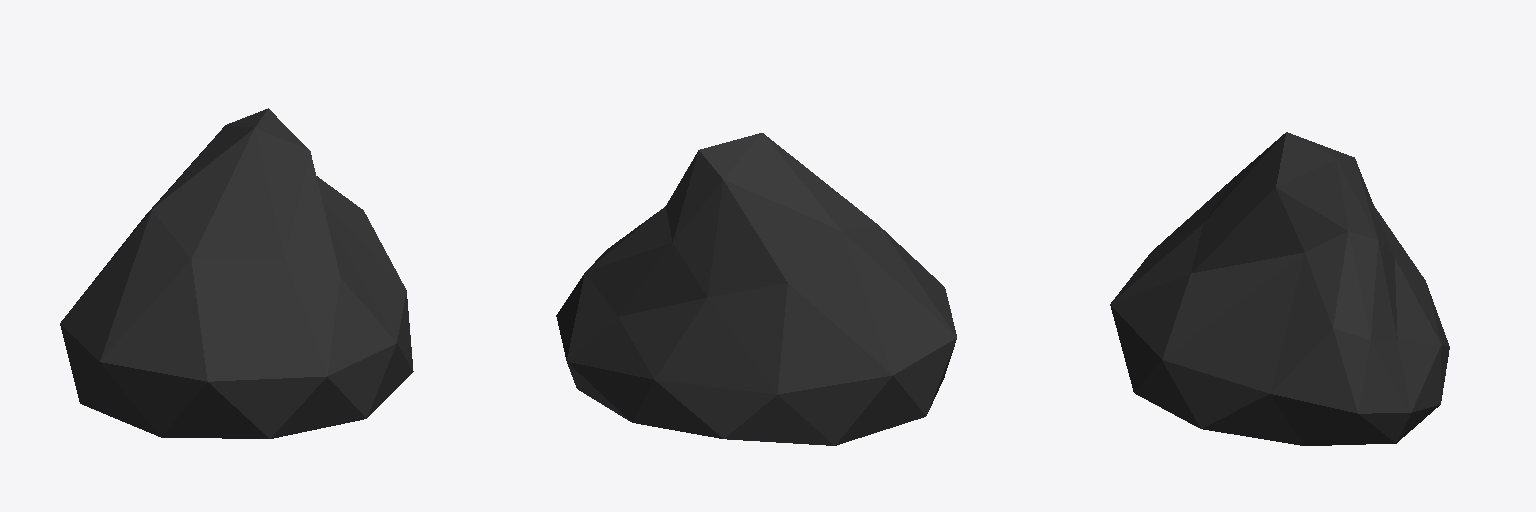
The model's file is Roca.obj.
The picture shows the model from 3 angles: view 1: azimuth 30°, elevation 25°; view 2: azimuth 150°, elevation 25°; view 3: azimuth 270°, elevation 25°; orthographic projection.
Parts seen in each view (by area): view 1: Icosphere.001; view 2: Icosphere.001; view 3: Icosphere.001.
Boxes of the visible parts, box(x1,y1,x2,y2) form: Icosphere.001: box(60, 108, 413, 438); Icosphere.001: box(556, 133, 956, 445); Icosphere.001: box(1110, 132, 1449, 445).
Size of the model in its own units: 1.89 by 1.31 by 1.61.